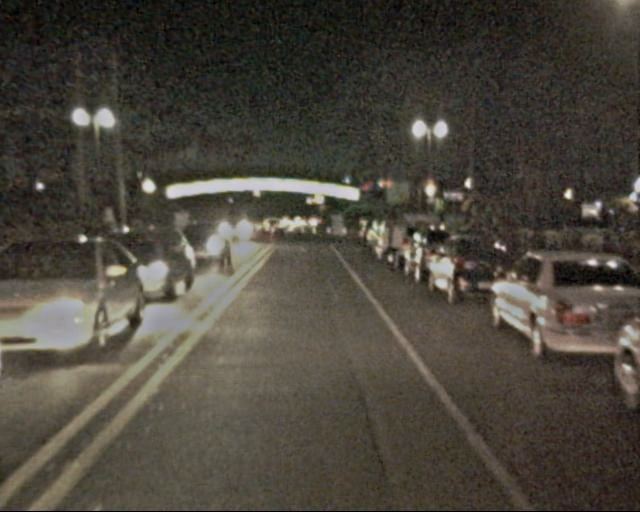person: (375, 210, 401, 274)
